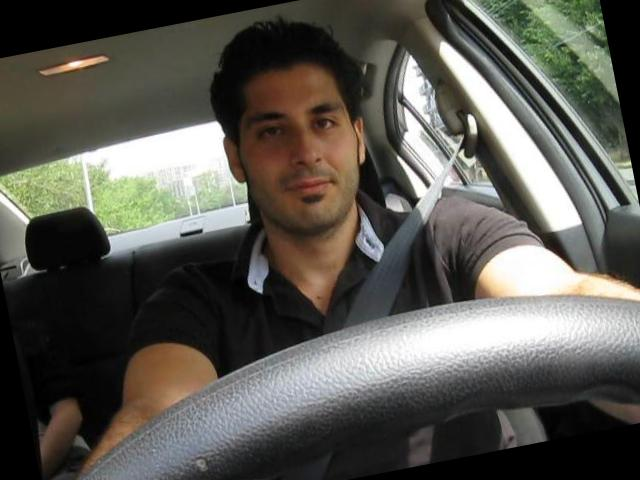eye_open: (251, 119, 292, 146), (306, 111, 342, 136)
face: (230, 69, 374, 244)
